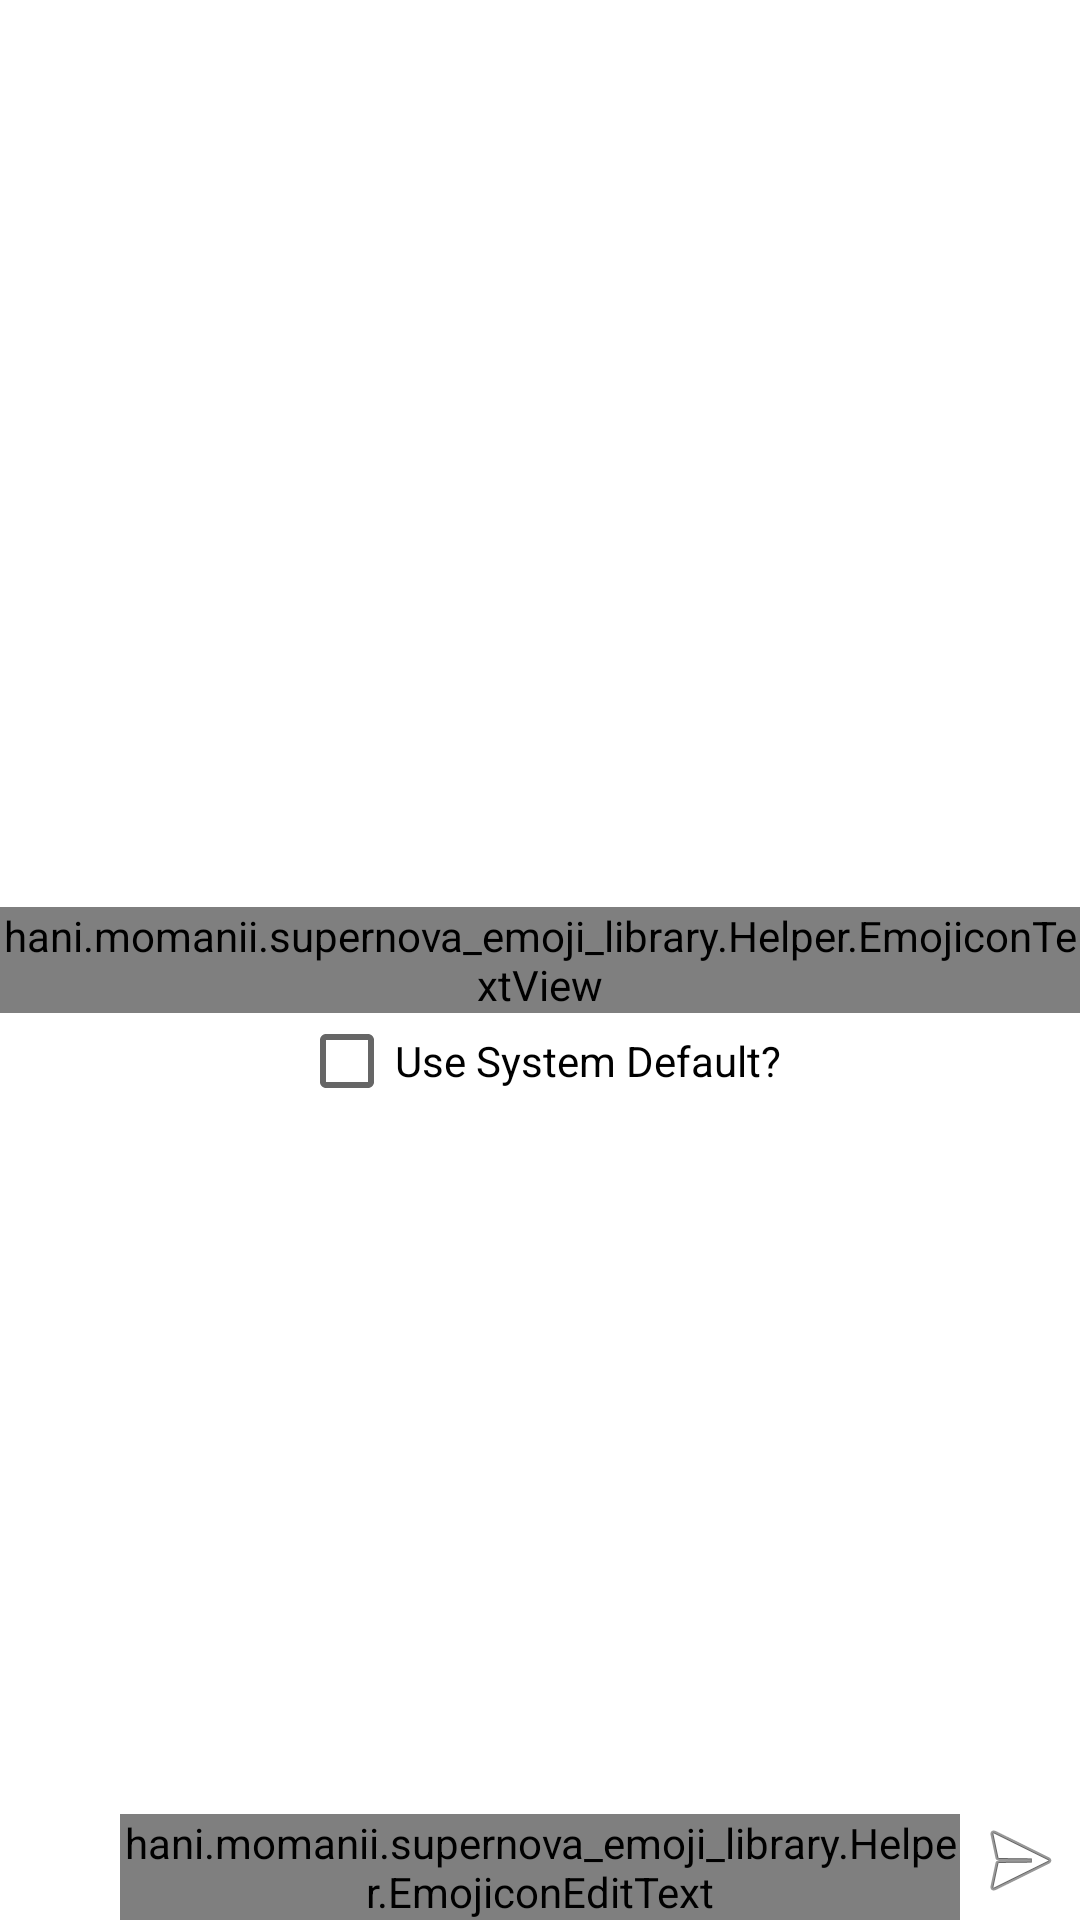

Screen size 1080x1920. Icon name, then its box in pixels as (x1, y1, x2, y2):
send: (990, 1830, 1052, 1891)
